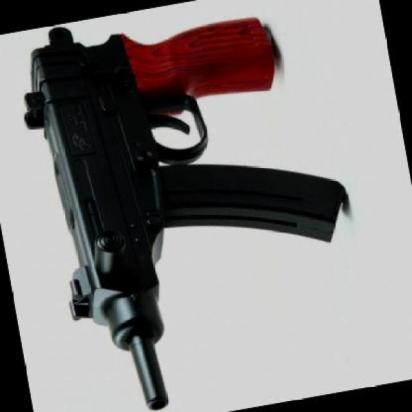Gun: (5, 0, 368, 412)
